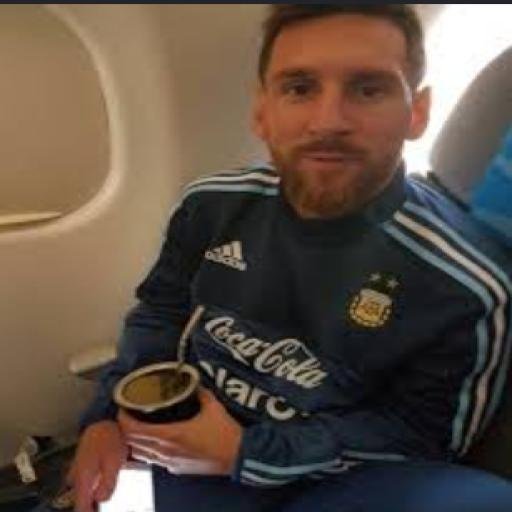mate: (115, 306, 200, 421)
